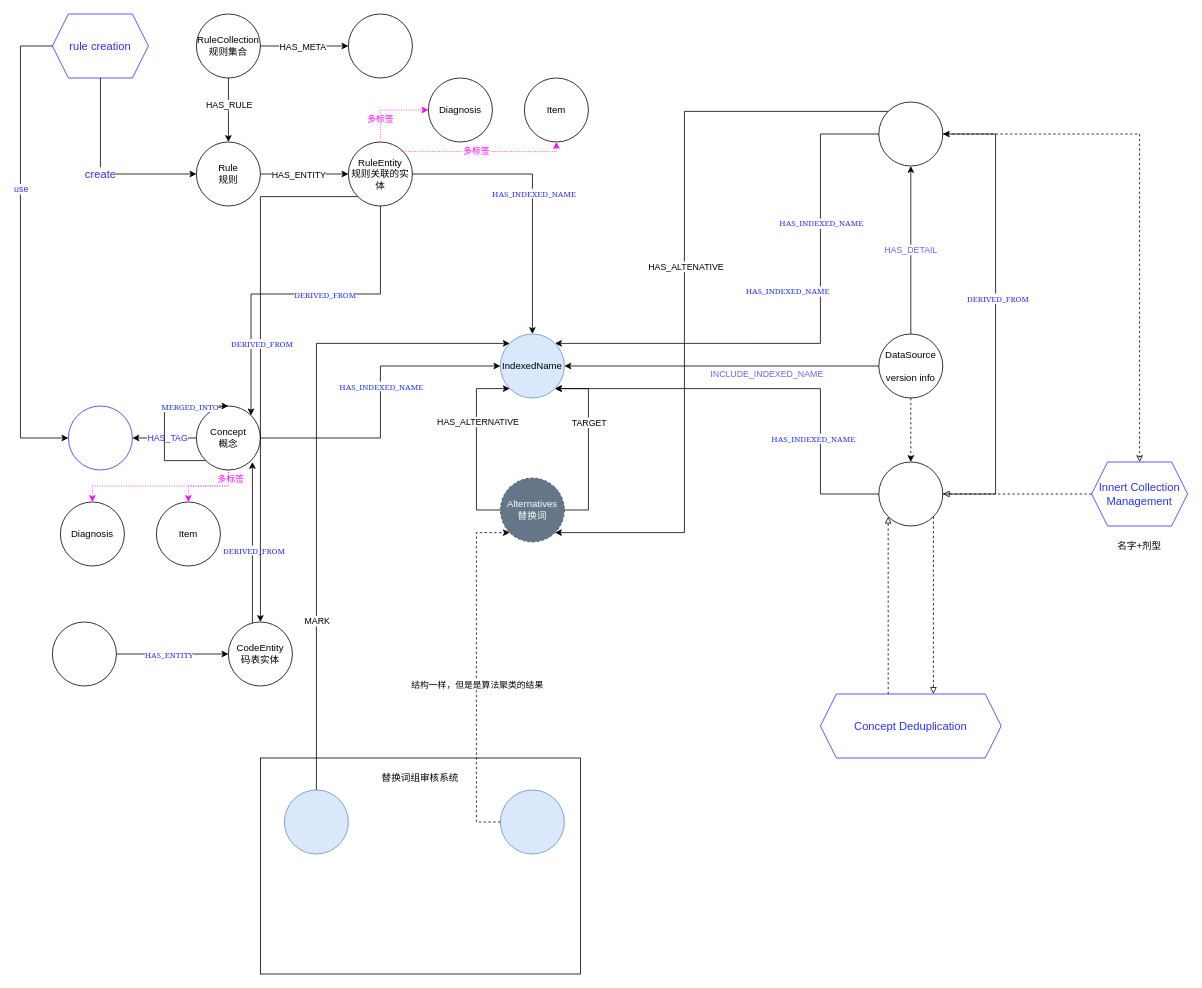
This 1202x988 diagram has some shape labels left out. The shapes that lost their labels are listed below. From the top down, each one's centre as x and y in pixels, then its label:
At (380,45): "RuleMeta 规则类型".
At (910,133): "Detail 三目录".
At (100,437): "Tag 标签".
At (910,493): "Universal Detail".
At (84,653): "CodeCollection 码表集合(ICD10, etc)".
At (316,821): "替换词人工确认记录".
At (532,821): "替换词算法聚类".
